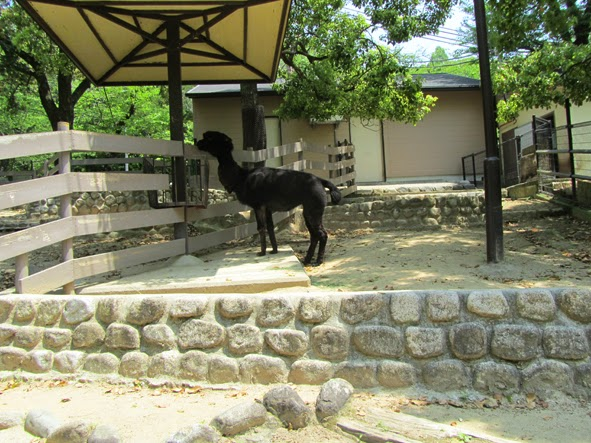alpaca: (194, 129, 342, 265)
